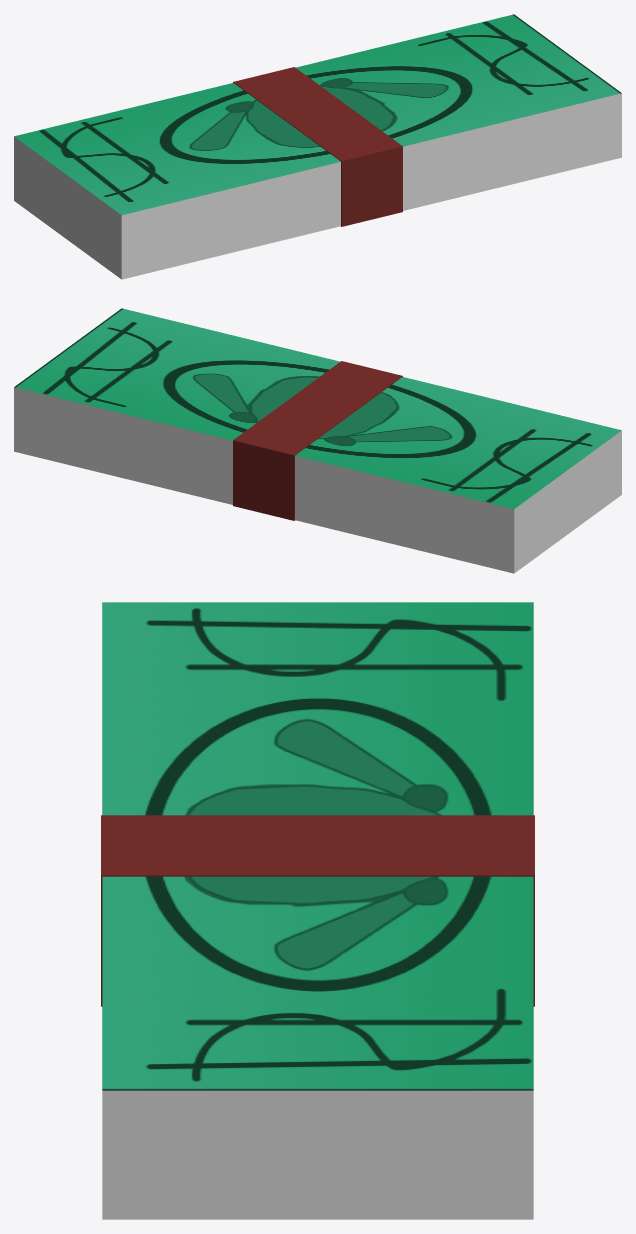
File: money stack.fbx
3 views of the same model, one above another, from view 1: azimuth 30°, elevation 25°; view 2: azimuth 150°, elevation 25°; view 3: azimuth 270°, elevation 25° (orthographic). The views are drawn at different scales.
Visible parts, largest first — view 1: Plane; view 2: Plane; view 3: Plane.
Part boxes in pixels (box(x1,y1,x2,y2)): Plane: box(14, 14, 621, 279); Plane: box(14, 308, 621, 573); Plane: box(101, 602, 534, 1219).
Size of the model in its own units: 605 by 75.84 by 227.
